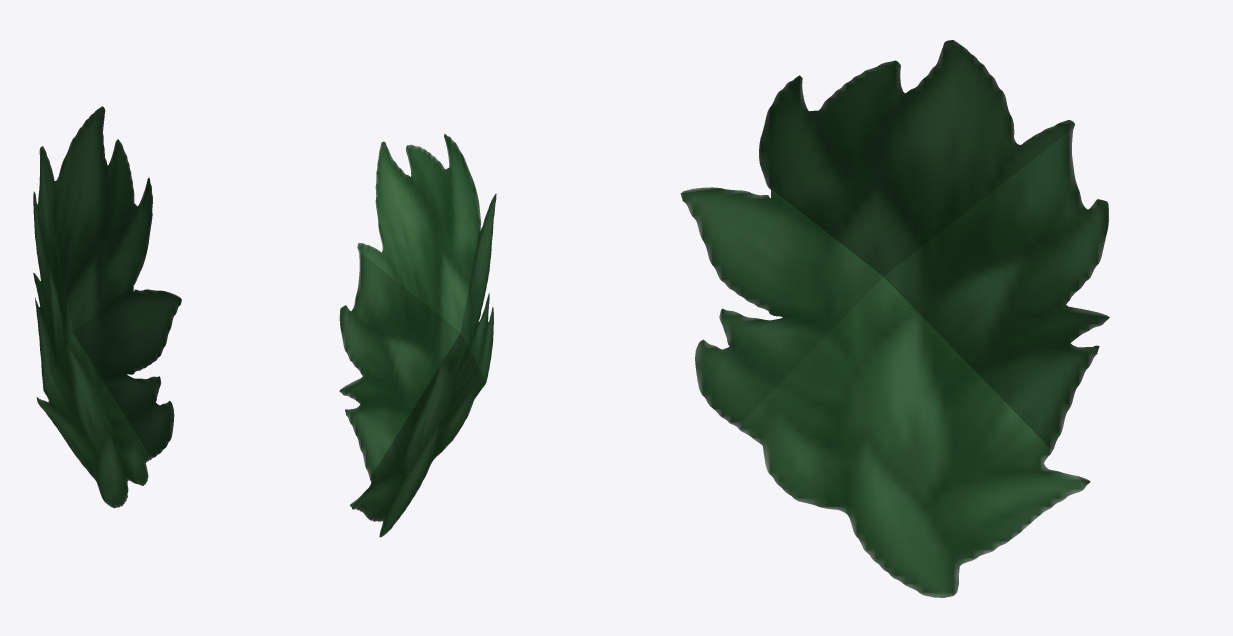
File: F_KrzaczekZielony.fbx
3 views of the same model, side by side, from view 1: azimuth 30°, elevation 25°; view 2: azimuth 150°, elevation 25°; view 3: azimuth 270°, elevation 25° (orthographic). The views are drawn at different scales.
Visible parts, largest first — view 1: F_KrzaczekZielony1; view 2: F_KrzaczekZielony1; view 3: F_KrzaczekZielony1.
Boxes of the visible parts, x1,y1,x2,y2 form: F_KrzaczekZielony1: (33, 106, 181, 508); F_KrzaczekZielony1: (339, 133, 496, 537); F_KrzaczekZielony1: (680, 40, 1109, 597).
Size of the model in its own units: 29.08 by 200 by 200.
Materials: 1 (1 with a texture image).
